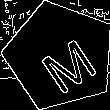M_NW: (25, 22, 94, 90)
